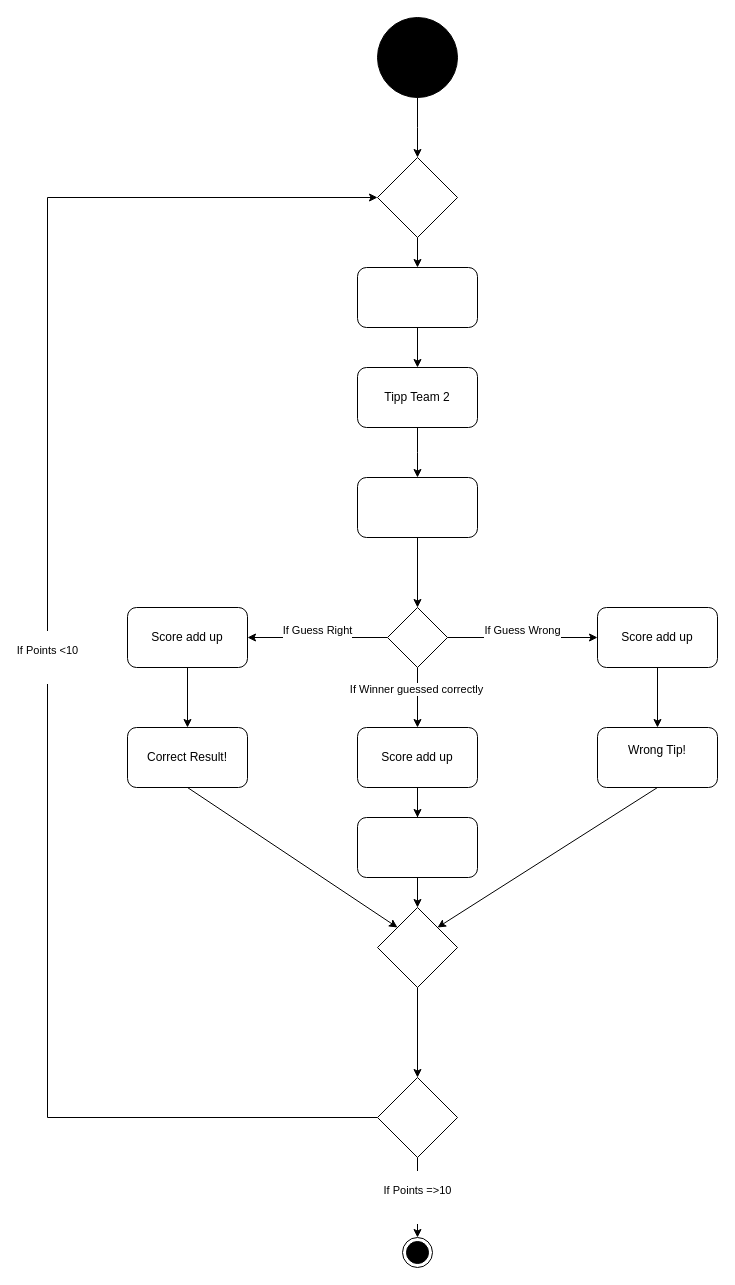
Some shapes in this 735 by 1285 pixel diagram are drawn without their labels. Here are the shapes that lost their labels. From the top down, the centre of each, then its label:
At pixel 417 297: "Tipp Team 1".
At pixel 417 507: "generate Score".
At pixel 417 847: "Correct Winner!".
